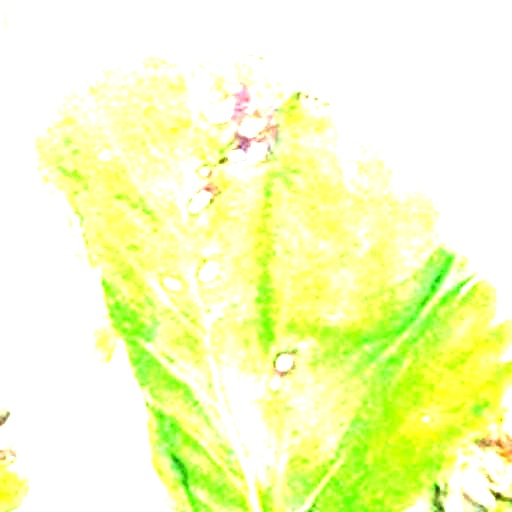Leaf Spot: (27, 45, 511, 511)
